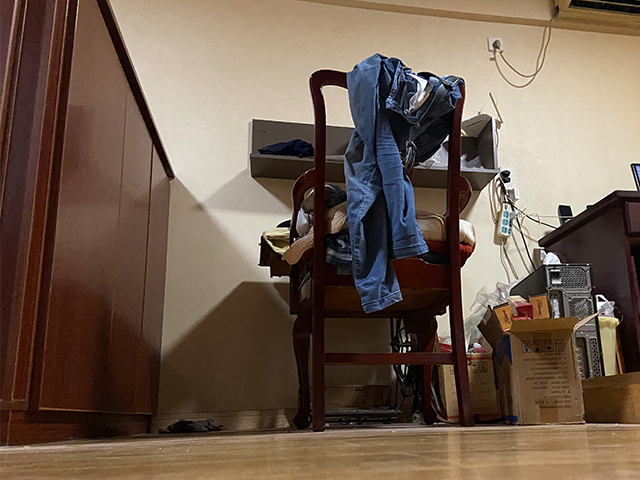cabinet: (1, 1, 173, 448)
socks: (158, 417, 227, 435)
stool: (286, 68, 474, 433)
